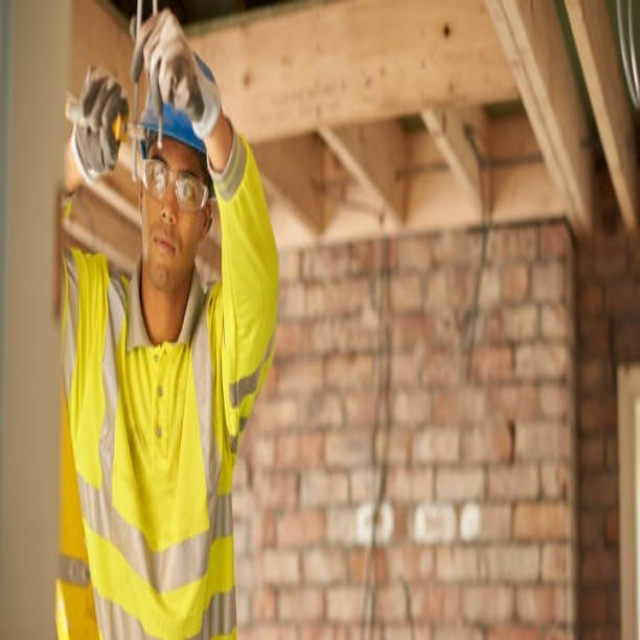Gafas: (139, 155, 210, 215)
Guantes: (133, 8, 221, 140), (70, 63, 128, 182)
Sin_mascara: (152, 222, 180, 280)
